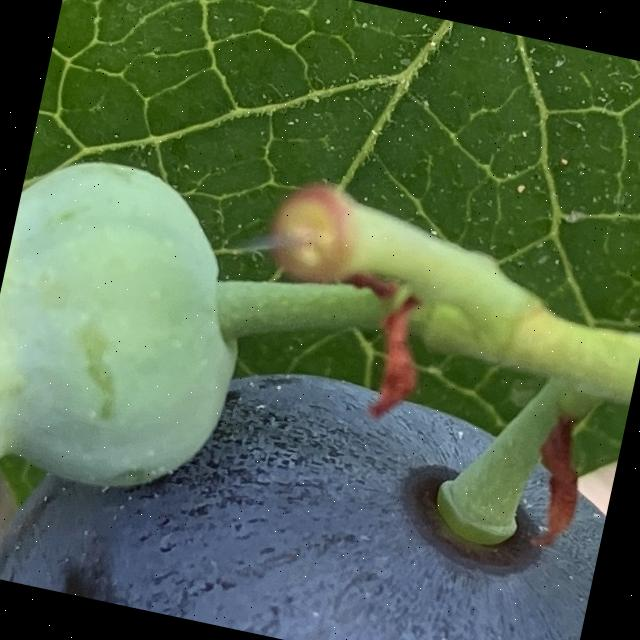Blueberries: (0, 290, 626, 640)
